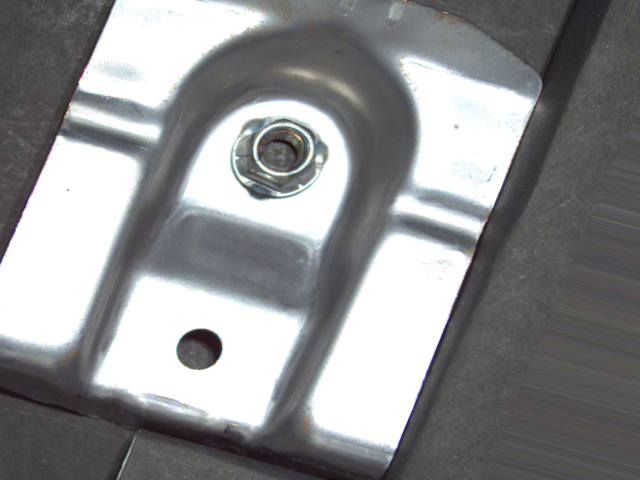good: (228, 115, 333, 200)
